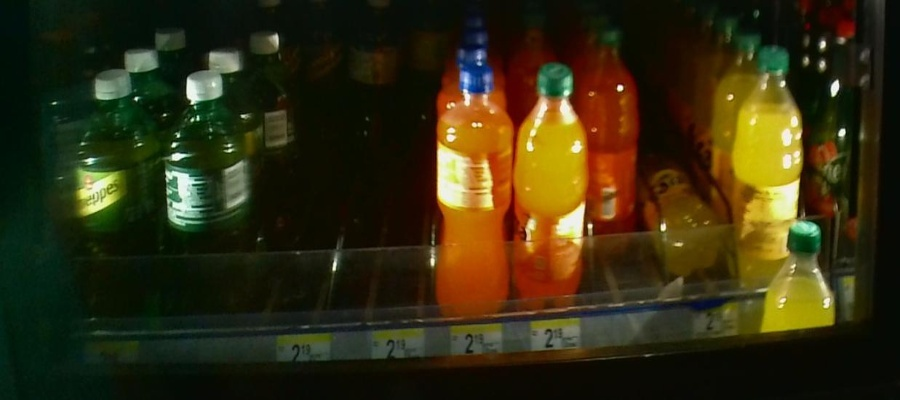bottle: (163, 69, 251, 329), (79, 69, 163, 330), (433, 66, 515, 323), (517, 59, 586, 325), (734, 42, 801, 286), (587, 26, 643, 260), (650, 166, 723, 295), (348, 4, 400, 149)
